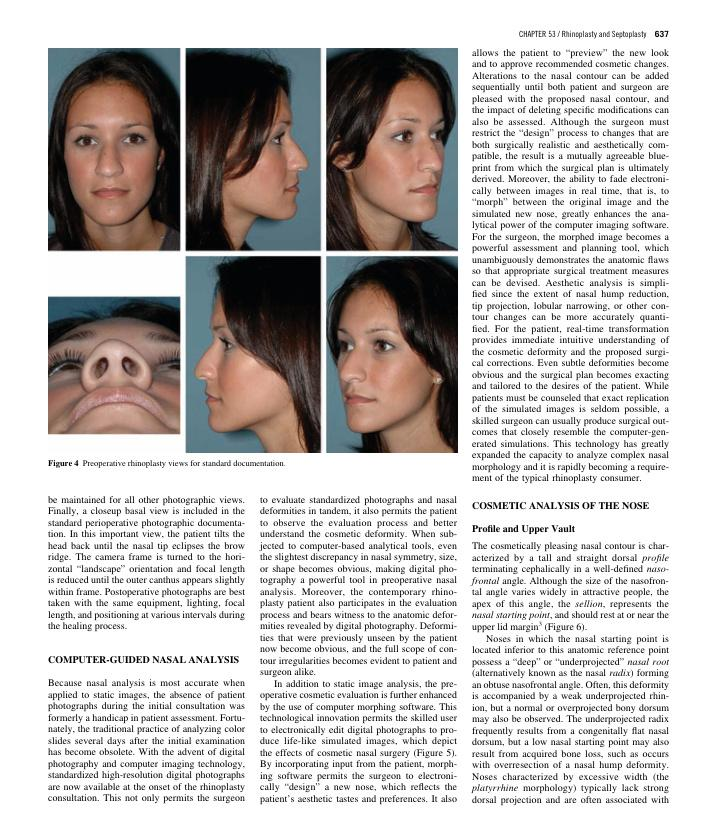caption: (47, 458, 287, 469)
header: (517, 29, 647, 40)
image: (186, 47, 321, 250), (48, 47, 181, 251), (326, 47, 458, 251), (186, 255, 321, 454), (326, 256, 459, 454), (47, 295, 181, 434)
section-heading: (47, 654, 240, 665), (471, 500, 651, 511)
sub-section-heading: (471, 523, 576, 535)
text: (471, 48, 670, 485), (258, 494, 459, 806), (470, 540, 670, 806), (47, 494, 246, 633), (46, 678, 246, 805)
